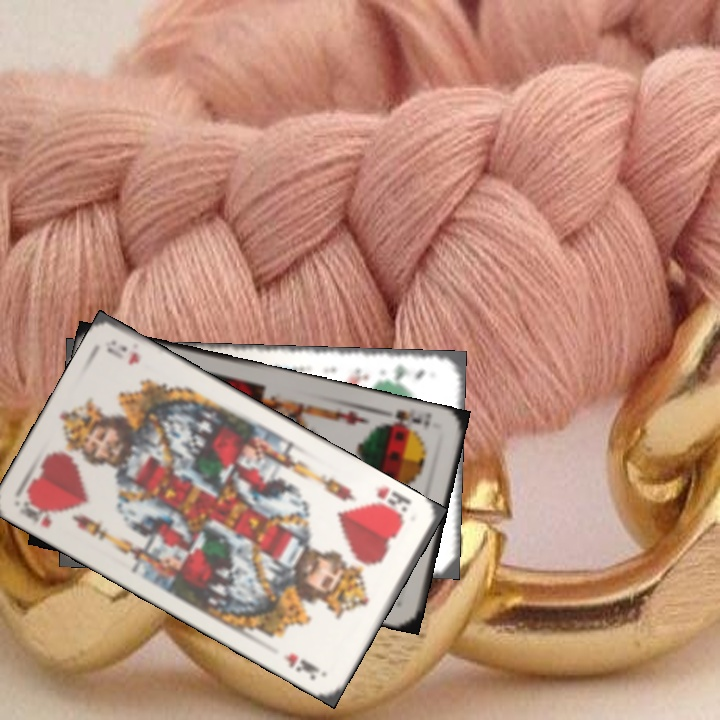GK: (389, 363, 428, 383)
HK: (368, 483, 415, 524), (15, 492, 59, 530)
SK: (379, 405, 435, 435)
